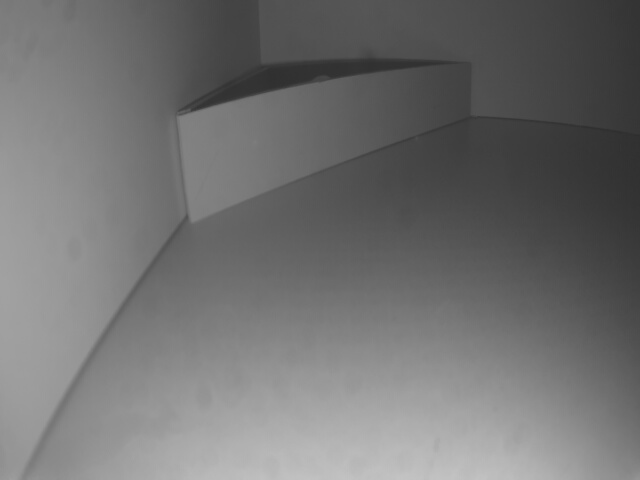Red: (178, 65, 473, 221)
